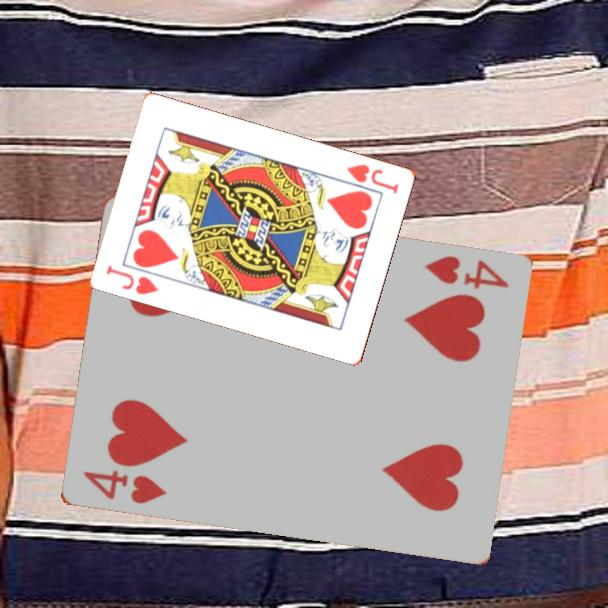h04: (419, 252, 511, 292), (79, 467, 169, 507)
h11: (343, 160, 402, 197), (103, 261, 162, 297)
